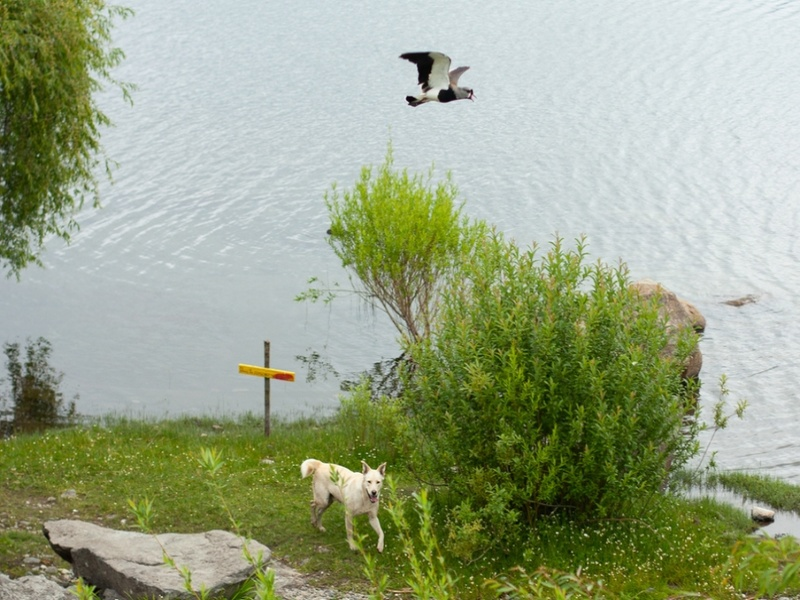dog: (299, 455, 387, 555)
